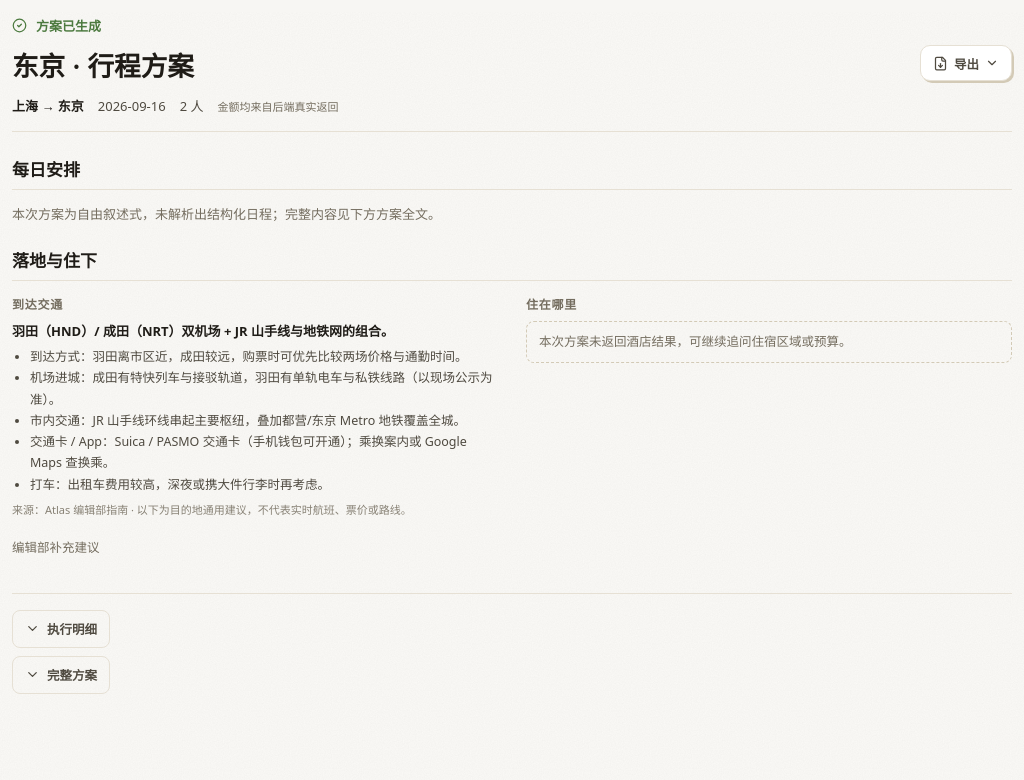
Scenario: ItineraryWorkspace reading mode (R1 结构) › shows honest empty states for folds without data
Click the button "执行明细" at point(61, 629), box [12,610,110,648]
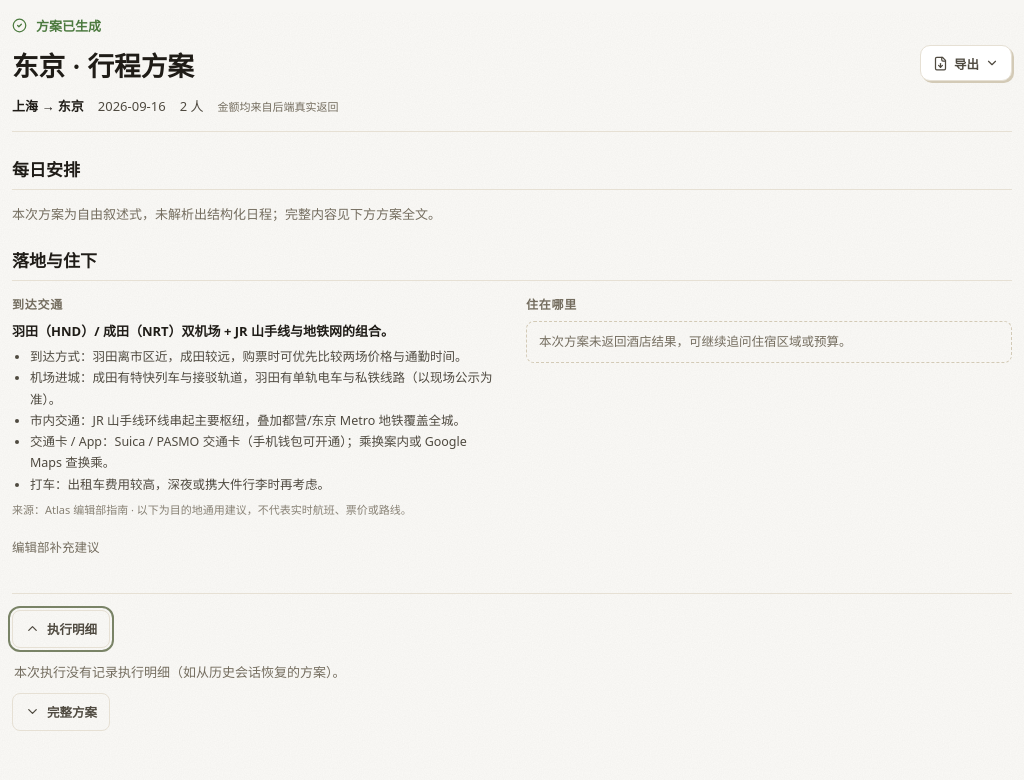
Result: the text "本次执行没有记录执行明细（如从历史会话恢复的方案）。" is shown at [14,663,346,681]
Click the button "完整方案" at point(61, 712), box [12,693,110,731]
(page scrolled)
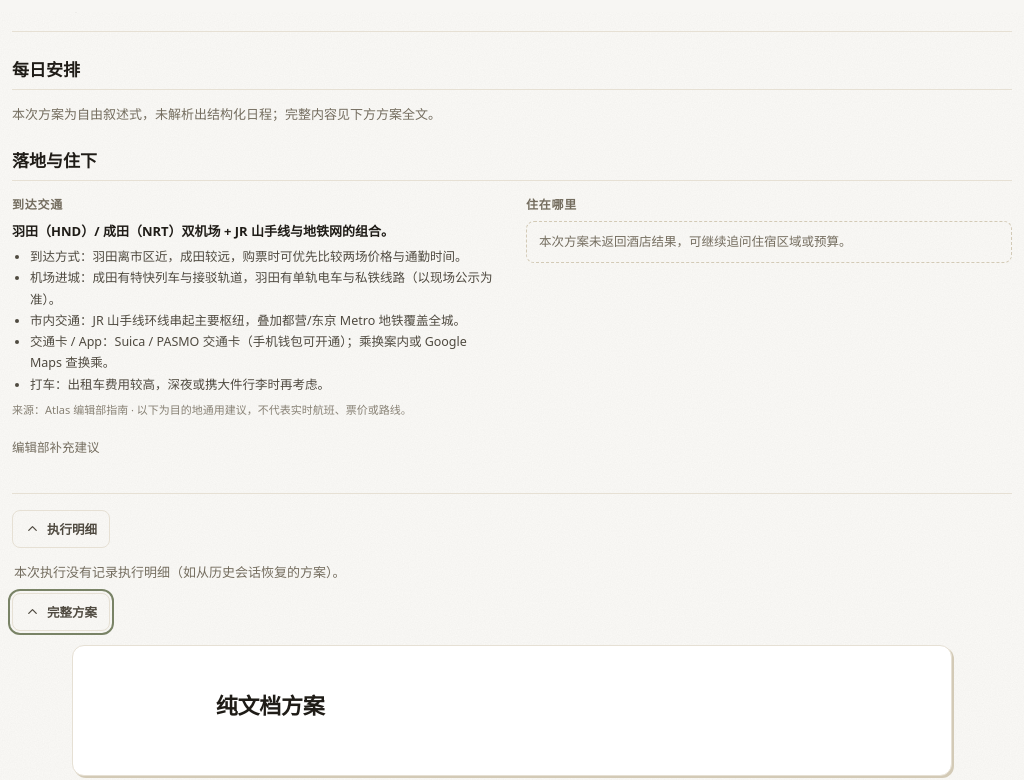
Result: the heading "纯文档方案" is shown at [216,694,325,719]
